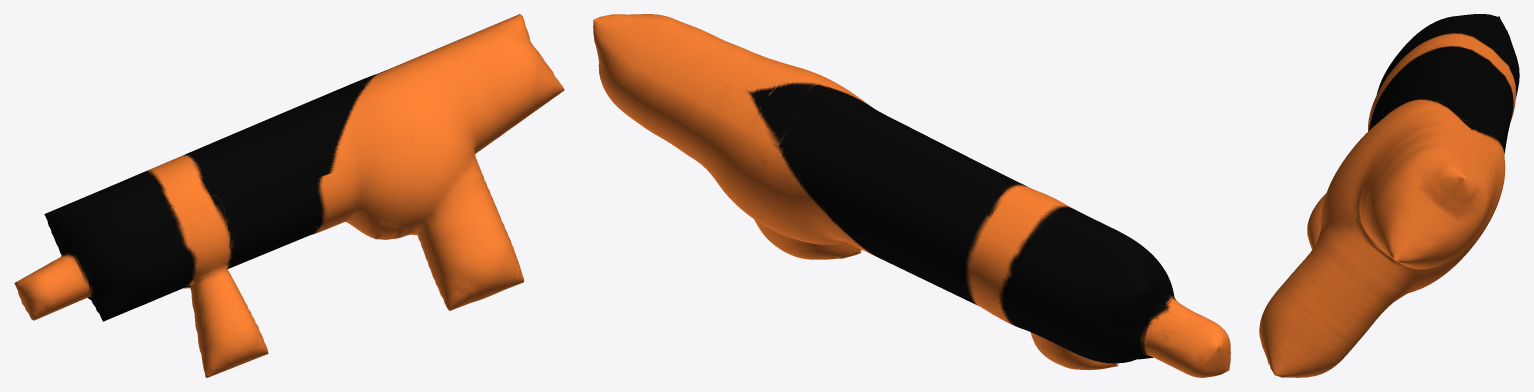
File: lanzadorDePlasma.fbx
The picture shows the model from 3 angles, left to right: view 1: azimuth 30°, elevation 25°; view 2: azimuth 150°, elevation 25°; view 3: azimuth 270°, elevation 25°; orthographic projection. The views are drawn at different scales.
Visible parts, largest first — view 1: root; view 2: root; view 3: root.
Boxes of the visible parts, x1,y1,x2,y2 form: root: [14, 14, 564, 377]; root: [593, 14, 1230, 377]; root: [1259, 14, 1519, 377].
Bounding box in the file's own units: 1.76 × 0.7605 × 0.6076.
1 material, 1 textured.
